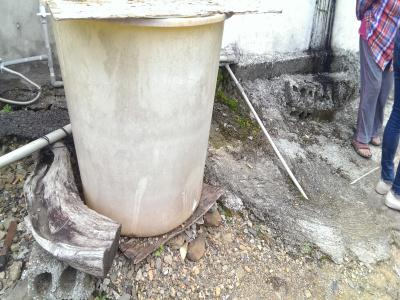bucket: (49, 9, 229, 239)
